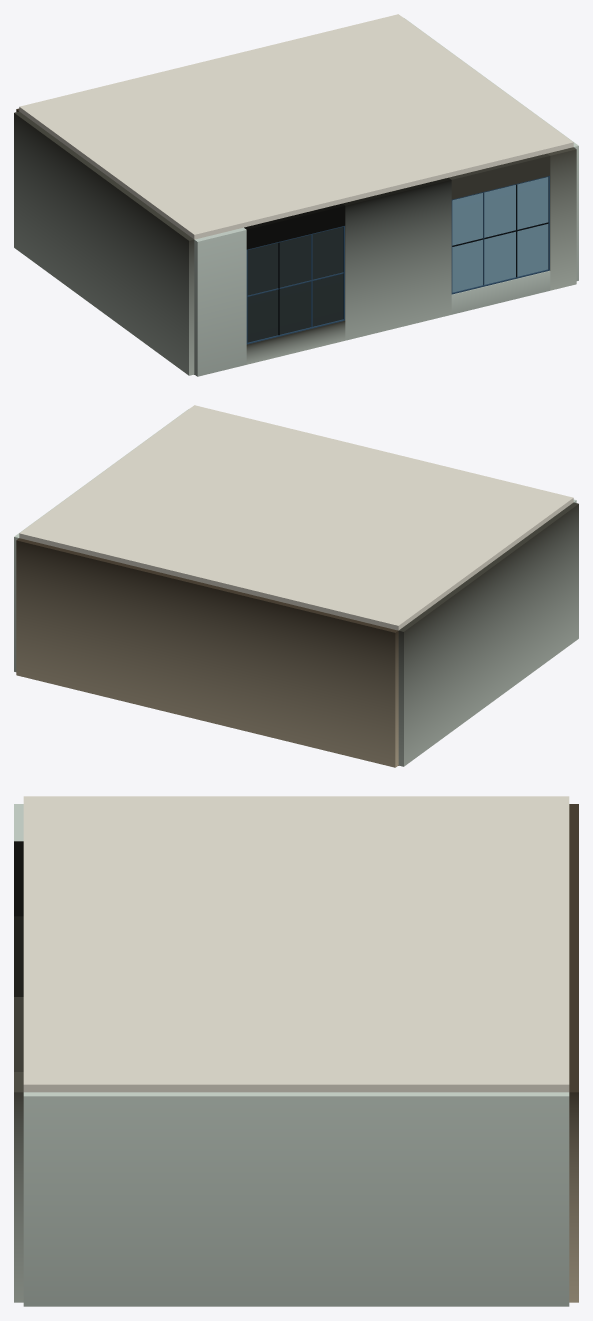
Rendered from shop.glb.
3 views of the same model, one above another, from view 1: azimuth 30°, elevation 25°; view 2: azimuth 150°, elevation 25°; view 3: azimuth 270°, elevation 25° (orthographic). The views are drawn at different scales.
Visible parts, largest first — view 1: shop.plaster.7, shop.plaster.6, shop.glass.2, shop.paint.3; view 2: shop.plaster.7, shop.plaster.5, shop.plaster.6; view 3: shop.plaster.7, shop.plaster.6, shop.plaster.5.
Part boxes in pixels (<box>): shop.plaster.7: <box>19,14,573,239</box>; shop.plaster.6: <box>14,18,578,376</box>; shop.glass.2: <box>247,177,548,342</box>; shop.paint.3: <box>246,176,549,344</box>; shop.plaster.7: <box>19,405,573,630</box>; shop.plaster.5: <box>16,538,398,767</box>; shop.plaster.6: <box>14,409,578,766</box>; shop.plaster.7: <box>23,796,569,1092</box>; shop.plaster.6: <box>14,804,569,1306</box>; shop.plaster.5: <box>569,804,578,1302</box>.
Size of the model in its own units: 10.28 by 3.54 by 8.28.
